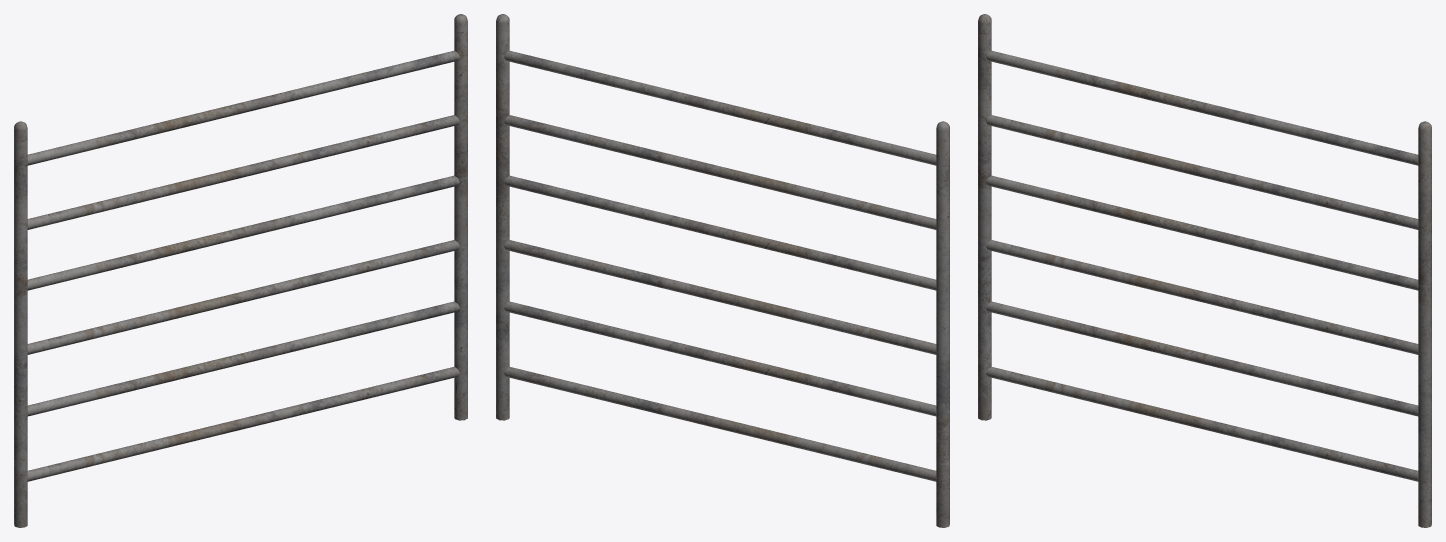
The model's file is SM_FAR_Fence_01.fbx.
3 views of the same model, side by side, from view 1: azimuth 30°, elevation 25°; view 2: azimuth 150°, elevation 25°; view 3: azimuth 330°, elevation 25° (orthographic).
Parts seen in each view (by area): view 1: SM_FAR_Fence_01.mo; view 2: SM_FAR_Fence_01.mo; view 3: SM_FAR_Fence_01.mo.
Part boxes in pixels (x1=…): SM_FAR_Fence_01.mo: x1=14, y1=14, x2=467, y2=527; SM_FAR_Fence_01.mo: x1=496, y1=14, x2=949, y2=527; SM_FAR_Fence_01.mo: x1=978, y1=14, x2=1431, y2=527.
Bounding box in the file's own units: 137 × 116 × 3.74.
